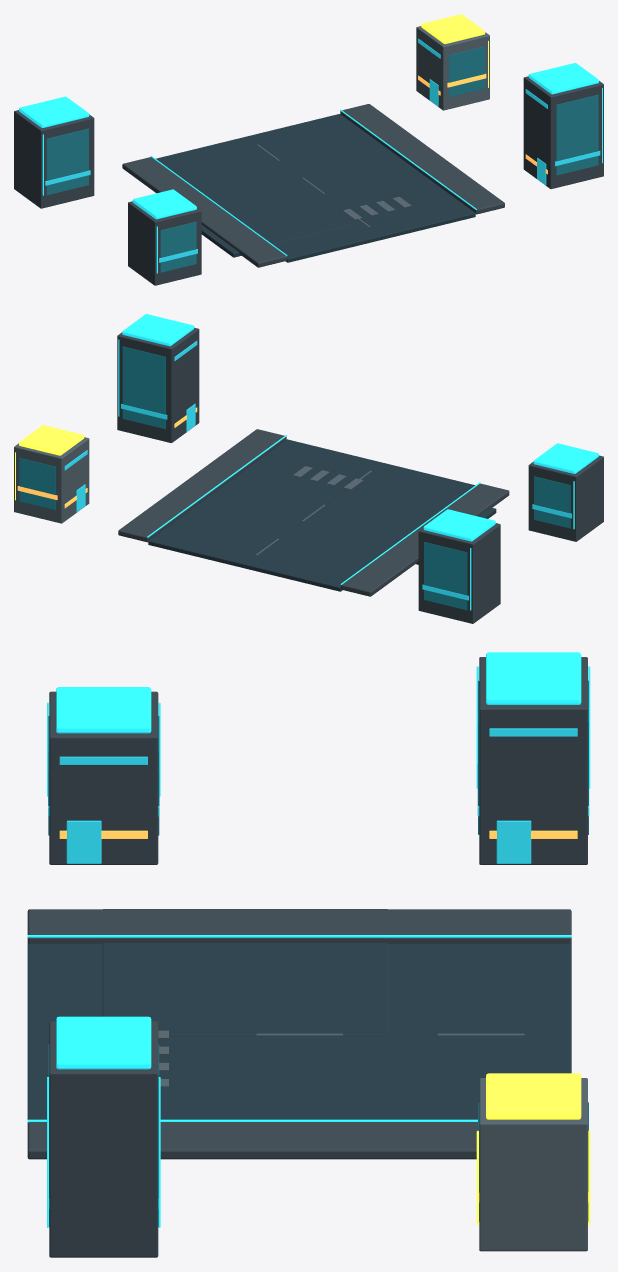
File: corner_right_lod2.glb
3 renders of one model, top to bottom at view 1: azimuth 30°, elevation 25°; view 2: azimuth 150°, elevation 25°; view 3: azimuth 270°, elevation 25°, orthographic. The views are drawn at different scales.
Parts seen in each view (by area): view 1: ND_Batch_ND_WetAsphalt, ND_Batch_ND_CityConcrete, ND_Batch_ND_RoadEdge, ND_Batch_ND_DarkGlass, ND_Batch_ND_CityCyanMuted, ND_Batch_ND_CityConcreteLight, ND_Batch_ND_NeonGlass, ND_Batch_ND_PackageGold; view 2: ND_Batch_ND_WetAsphalt, ND_Batch_ND_CityConcrete, ND_Batch_ND_DarkGlass, ND_Batch_ND_RoadEdge, ND_Batch_ND_CityCyanMuted, ND_Batch_ND_CityConcreteLight, ND_Batch_ND_NeonGlass, ND_Batch_ND_PackageGold; view 3: ND_Batch_ND_WetAsphalt, ND_Batch_ND_CityConcrete, ND_Batch_ND_RoadEdge, ND_Batch_ND_CityCyanMuted, ND_Batch_ND_CityConcreteLight, ND_Batch_ND_PackageGold, ND_Batch_ND_NeonGlass, ND_Batch_ND_DarkGlass, ND_Batch_ND_WarmWindow.
Boxes of the visible parts, x1,y1,x2,y2 form: ND_Batch_ND_WetAsphalt: [156, 114, 475, 262]; ND_Batch_ND_CityConcrete: [14, 76, 603, 285]; ND_Batch_ND_RoadEdge: [122, 104, 504, 267]; ND_Batch_ND_DarkGlass: [46, 46, 598, 272]; ND_Batch_ND_CityCyanMuted: [19, 63, 602, 273]; ND_Batch_ND_CityConcreteLight: [257, 26, 489, 227]; ND_Batch_ND_NeonGlass: [45, 38, 600, 262]; ND_Batch_ND_PackageGold: [421, 14, 488, 87]; ND_Batch_ND_WetAsphalt: [148, 439, 496, 591]; ND_Batch_ND_CityConcrete: [117, 327, 603, 623]; ND_Batch_ND_DarkGlass: [19, 346, 570, 610]; ND_Batch_ND_RoadEdge: [118, 429, 509, 596]; ND_Batch_ND_CityCyanMuted: [118, 314, 598, 610]; ND_Batch_ND_CityConcreteLight: [14, 437, 371, 555]; ND_Batch_ND_NeonGlass: [64, 341, 571, 600]; ND_Batch_ND_PackageGold: [15, 425, 84, 500]; ND_Batch_ND_WetAsphalt: [27, 909, 571, 1123]; ND_Batch_ND_CityConcrete: [49, 657, 587, 1257]; ND_Batch_ND_RoadEdge: [27, 909, 571, 1159]; ND_Batch_ND_CityCyanMuted: [27, 652, 590, 1227]; ND_Batch_ND_CityConcreteLight: [158, 1030, 587, 1251]; ND_Batch_ND_PackageGold: [476, 1073, 590, 1224]; ND_Batch_ND_NeonGlass: [48, 728, 589, 1208]; ND_Batch_ND_DarkGlass: [48, 680, 588, 1226]; ND_Batch_ND_WarmWindow: [59, 830, 588, 1202].
Size of the model in its own units: 38.7 by 8.15 by 20.69.
